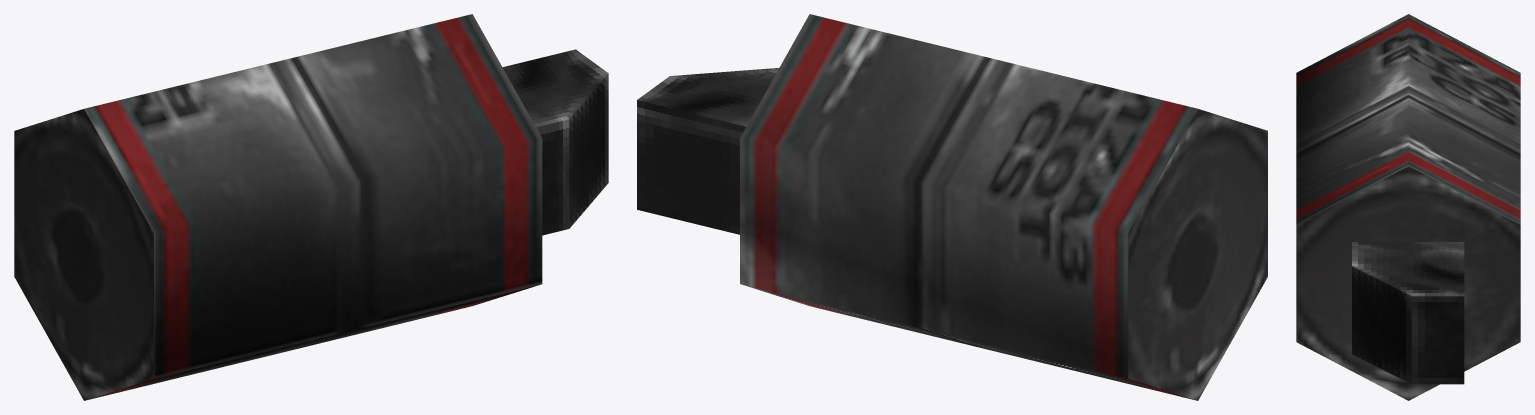
File: hegrenade.glb
3 views of the same model, side by side, from view 1: azimuth 30°, elevation 25°; view 2: azimuth 150°, elevation 25°; view 3: azimuth 270°, elevation 25° (orthographic). The views are drawn at different scales.
Parts seen in each view (by area): view 1: attachment_0, attachment_1; view 2: attachment_0, attachment_1; view 3: attachment_0, attachment_1.
Boxes of the visible parts, bbox=[...] form: attachment_0: bbox=[14, 14, 542, 400]; attachment_1: bbox=[502, 49, 608, 235]; attachment_0: bbox=[740, 14, 1267, 400]; attachment_1: bbox=[637, 68, 778, 234]; attachment_0: bbox=[1296, 14, 1520, 400]; attachment_1: bbox=[1352, 242, 1464, 384].
Size of the model in its own units: 17.63 by 9.35 by 8.09.
Materials: 2 (2 with a texture image).
